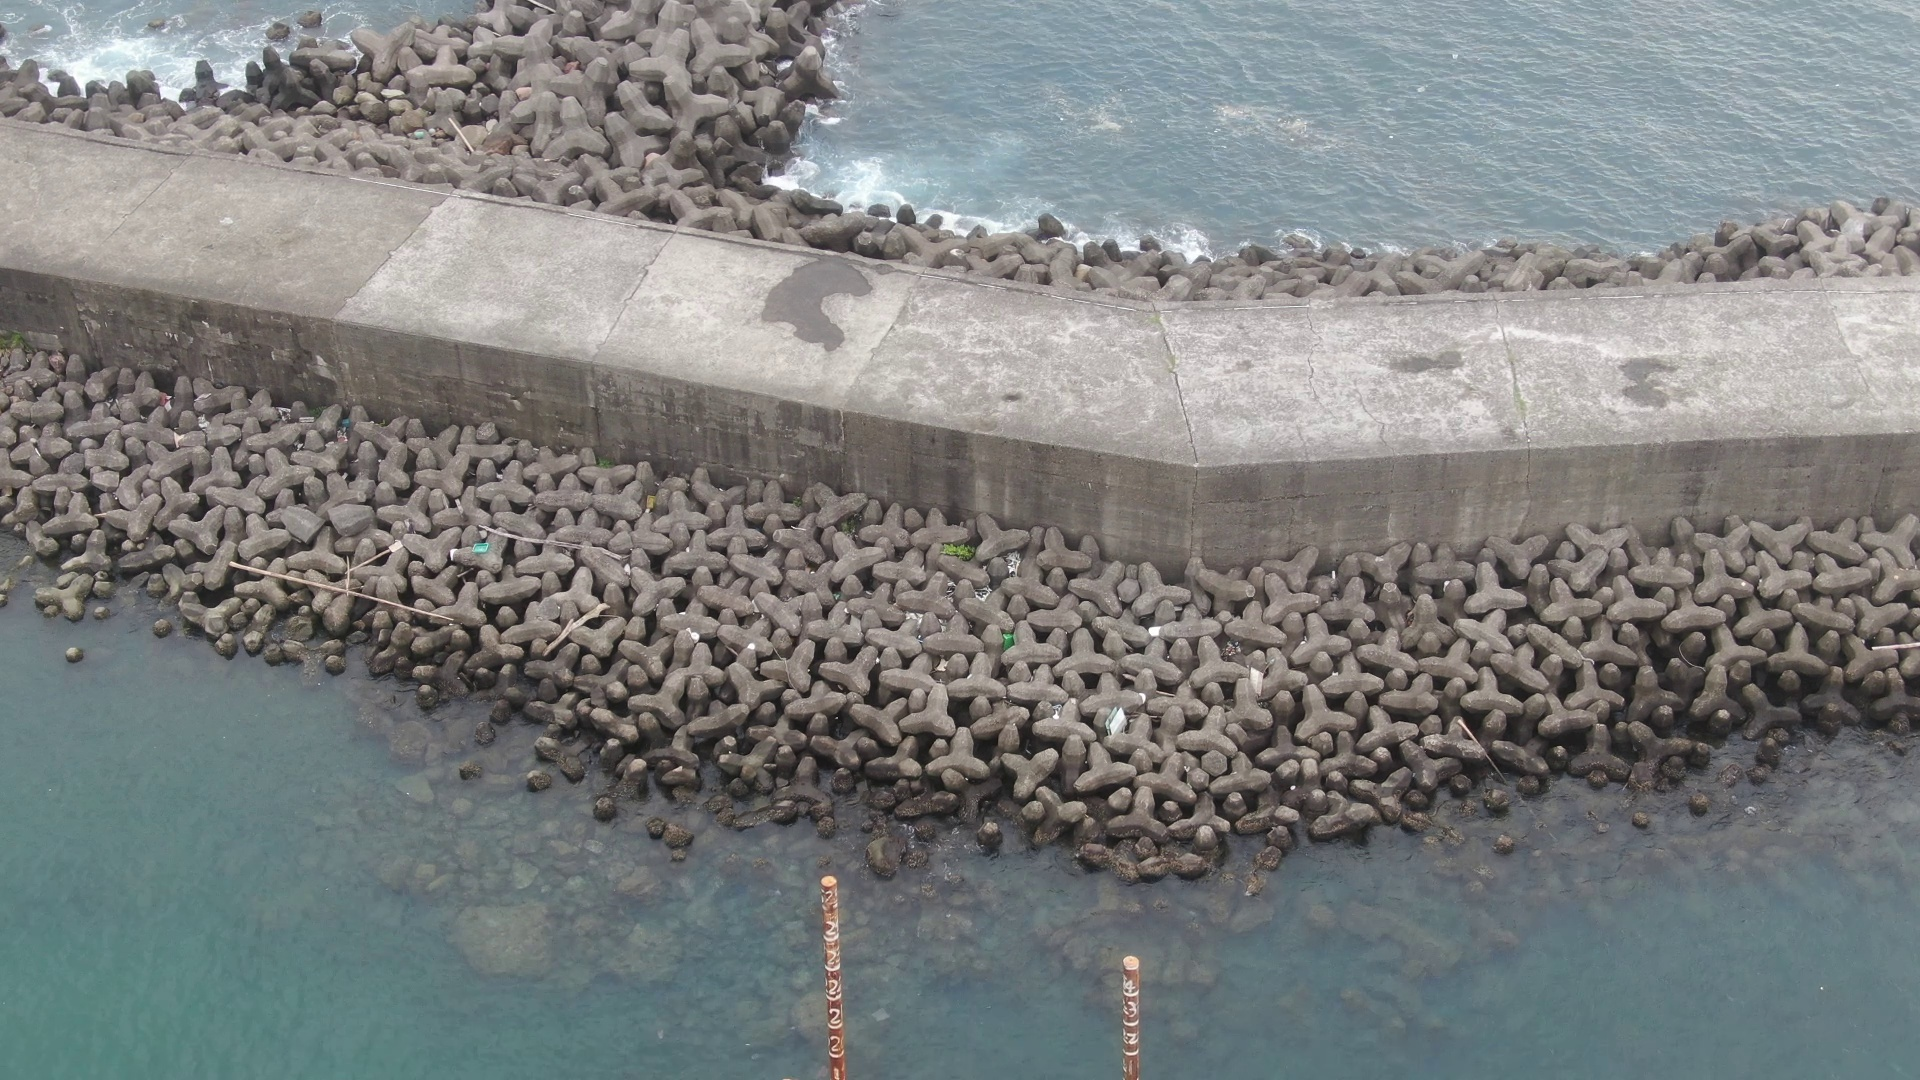garbage: (1102, 688, 1137, 742), (994, 629, 1029, 661), (473, 533, 498, 560)
